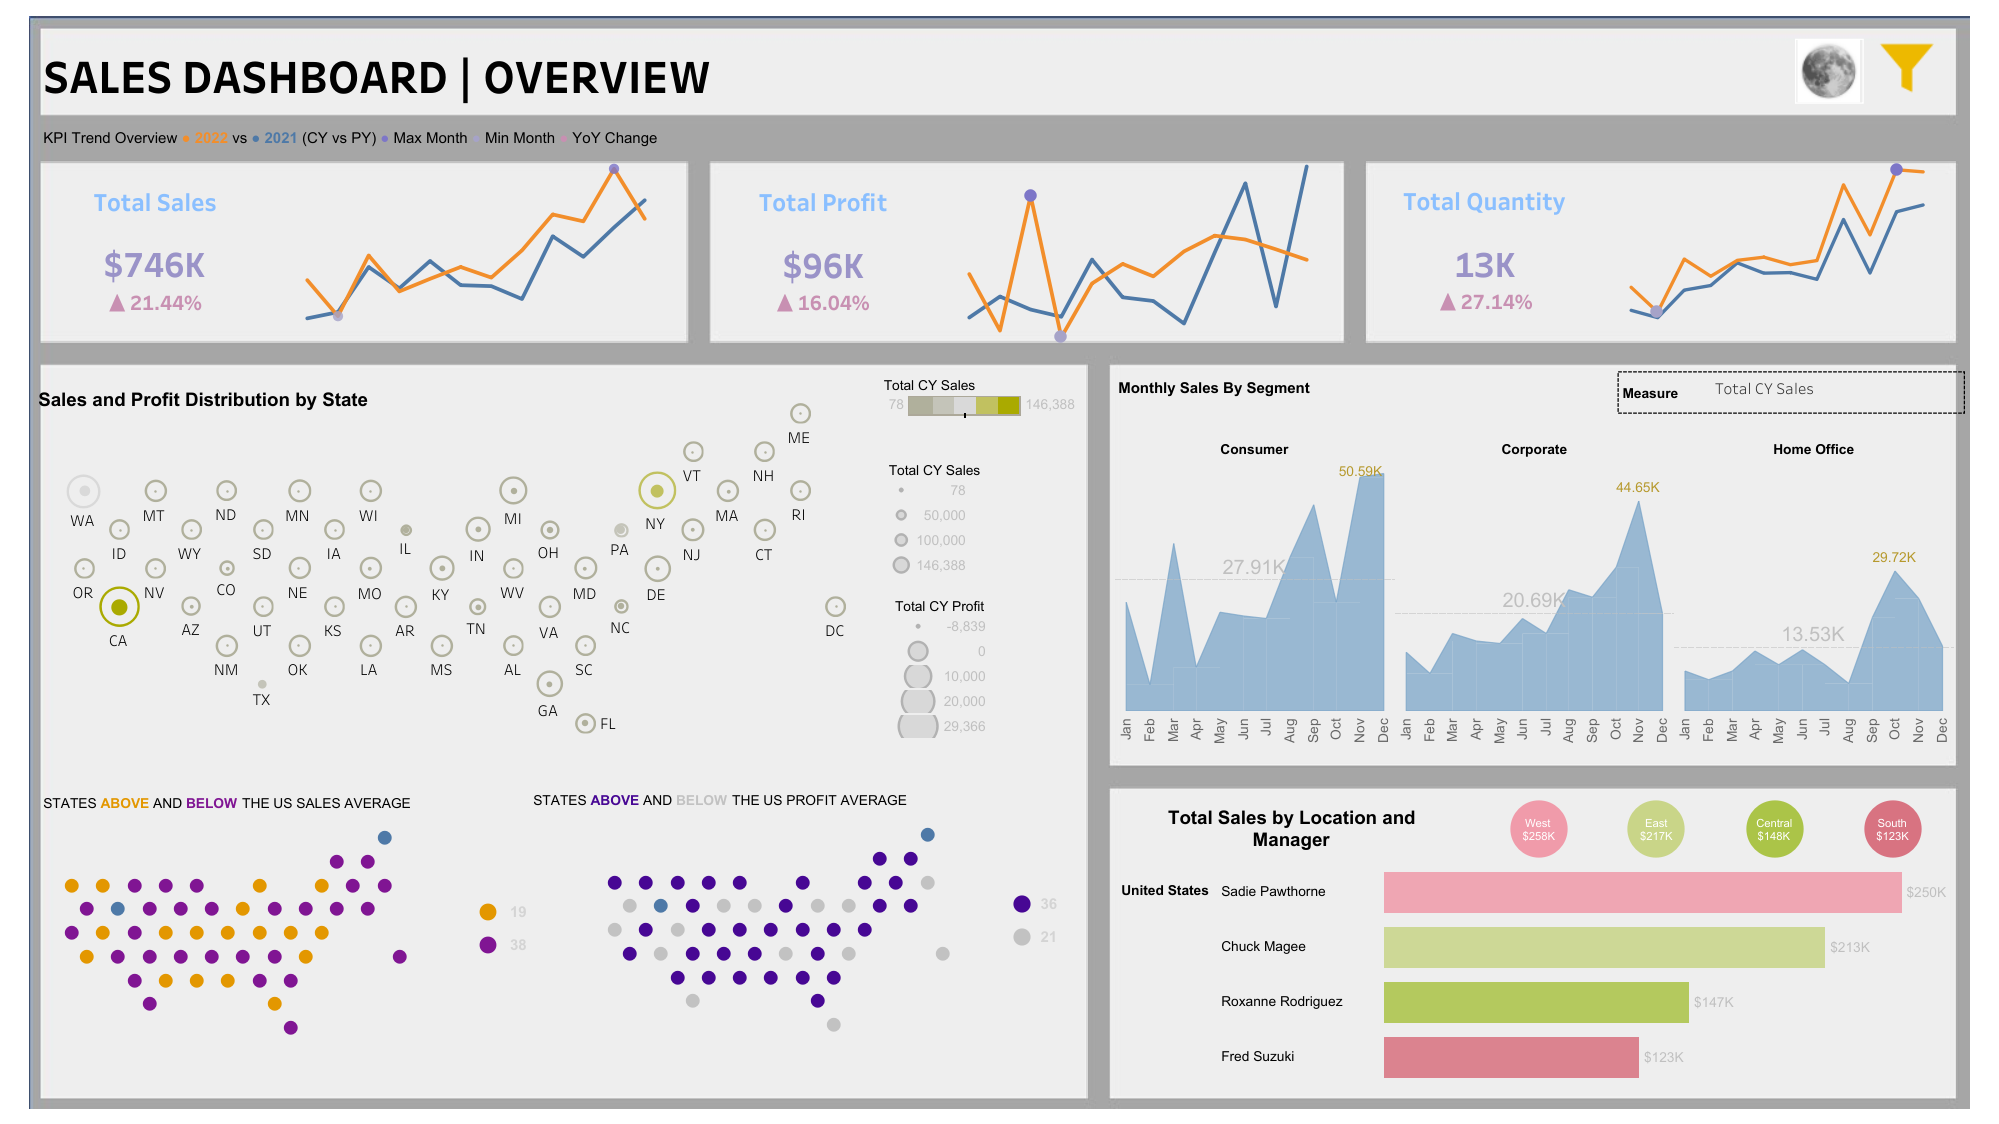

What the dashboard file says about the page in this screenshot:
{"tool":"tableau","page":{"name":"Sales Dashboard","canvas":[1600,900],"ordinal":0},"visuals":[{"type":"image","param":"C:/Users/gvenk/Documents/1Learning/Tableau/Sales/Sales Dashboard Background/Slid","box":[8,8,1584,884]},{"type":"text","box":[32,23,728,73]},{"type":"dashboard-object","box":[1490,29,58,54]},{"type":"dashboard-object","box":[1432,33,54,52]},{"type":"filter","title":"Sales and Profit Distribution by State","param":"[federated.04ojboi0fxcki01dydtyo1gi0vpx].[none:Category:nk]","box":[1324,64,239,61]},{"type":"text","box":[32,92,630,35]},{"type":"worksheet","title":"Qty KPI","mark":"Automatic","box":[1098,119,181,162]},{"type":"worksheet","title":"Qty Sparkline","mark":"Automatic","rows":["Min Max Month Profit (copy)_2294865528859299855"],"cols":["Order Date"],"box":[1279,119,284,162]},{"type":"worksheet","title":"Profit KPI","mark":"Automatic","box":[572,120,174,161]},{"type":"worksheet","title":"Profit Sparkline","mark":"Automatic","rows":["Min Max Month Sales (copy)_2294865528857112590"],"cols":["Order Date"],"box":[746,120,327,161]},{"type":"worksheet","title":"Sales KPI","mark":"Automatic","box":[33,121,184,160]},{"type":"worksheet","title":"Sales Sparkline","mark":"Automatic","rows":["Calculation_2294865528849907725"],"cols":["Order Date"],"box":[217,121,327,160]},{"type":"filter","title":"Sales and Profit Distribution by State","param":"[federated.04ojboi0fxcki01dydtyo1gi0vpx].[none:Ship Mode:nk]","box":[1324,125,239,61]},{"type":"filter","title":"Sales and Profit Distribution by State","param":"[federated.04ojboi0fxcki01dydtyo1gi0vpx].[none:Region:nk]","box":[1324,186,239,61]},{"type":"text","box":[892,295,199,30]},{"type":"parameter","param":"[Parameters].[Parameter 1]","box":[1294,297,278,34]},{"type":"legend","title":"Sales and Profit Distribution by State","param":"[federated.04ojboi0fxcki01dydtyo1gi0vpx].[sum:Calculation_2294865528829521920:qk","box":[707,298,158,62]},{"type":"worksheet","title":"Sales and Profit Distribution by State","mark":"Circle","rows":["Row"],"cols":["Column","Column"],"box":[24,300,683,309]},{"type":"text","box":[28,305,333,30]},{"type":"worksheet","title":"Monthly Sales by Segment","mark":"Area","rows":["Calculation_1285777739813228547"],"cols":["Segment","Order Date"],"box":[892,349,671,260]},{"type":"legend","title":"Sales and Profit Distribution by State","param":"[federated.04ojboi0fxcki01dydtyo1gi0vpx].[sum:Calculation_2294865528829521920:qk","box":[710,368,155,107]},{"type":"legend","title":"Sales and Profit Distribution by State","param":"[federated.04ojboi0fxcki01dydtyo1gi0vpx].[sum:Total CY Sales (copy)_229486552884","box":[715,477,149,127]},{"type":"text","box":[424,625,358,30]},{"type":"text","box":[32,627,358,30]},{"type":"worksheet","title":"Region wise Sales","mark":"Circle","cols":["Region"],"box":[1184,635,377,56]},{"type":"text","box":[913,639,241,48]},{"type":"worksheet","title":"Average Profit by State","mark":"Circle","rows":["Row"],"cols":["Column"],"box":[473,649,300,190]},{"type":"worksheet","title":"Average Sales by State","mark":"Circle","rows":["Row"],"cols":["Column"],"box":[38,651,300,190]},{"type":"worksheet","title":"Total Sales by Location and Manager","mark":"Automatic","rows":["Country/Region","Regional Manager"],"cols":["Calculation_2294865528829521920"],"box":[891,691,692,176]},{"type":"worksheet","title":"Avg Profit by State Count","mark":"Circle","rows":["Sales Avg Colour (copy)_1285777739801780226"],"box":[786,709,63,55]},{"type":"worksheet","title":"Avg Sales by State Count","mark":"Circle","rows":["Calculation_1200209346829135875"],"box":[356,715,68,54]}]}

Visuals, with their boxes in screenshot pixels (x1, y1, x2, y2), scaled from the page's 1600x900 canvas onto the 1999x1124 screenshot:
image: 10,10,1989,1114
text: 40,29,950,120
dashboard-object: 1862,36,1934,104
dashboard-object: 1789,41,1857,106
"Sales and Profit Distribution by State" filter: 1654,80,1953,156
text: 40,115,827,159
"Qty KPI" worksheet: 1372,149,1598,351
"Qty Sparkline" worksheet: 1598,149,1953,351
"Profit KPI" worksheet: 715,150,932,351
"Profit Sparkline" worksheet: 932,150,1341,351
"Sales KPI" worksheet: 41,151,271,351
"Sales Sparkline" worksheet: 271,151,680,351
"Sales and Profit Distribution by State" filter: 1654,156,1953,232
"Sales and Profit Distribution by State" filter: 1654,232,1953,308
text: 1114,368,1363,406
parameter: 1617,371,1964,413
"Sales and Profit Distribution by State" legend: 883,372,1081,450
"Sales and Profit Distribution by State" worksheet (Circle marks): 30,375,883,761
text: 35,381,451,418
"Monthly Sales by Segment" worksheet (Area marks): 1114,436,1953,761
"Sales and Profit Distribution by State" legend: 887,460,1081,593
"Sales and Profit Distribution by State" legend: 893,596,1079,754
text: 530,781,977,818
text: 40,783,487,821
"Region wise Sales" worksheet (Circle marks): 1479,793,1950,863
text: 1141,798,1442,858
"Average Profit by State" worksheet (Circle marks): 591,811,966,1048
"Average Sales by State" worksheet (Circle marks): 47,813,422,1050
"Total Sales by Location and Manager" worksheet: 1113,863,1978,1083
"Avg Profit by State Count" worksheet (Circle marks): 982,885,1061,954
"Avg Sales by State Count" worksheet (Circle marks): 445,893,530,960
